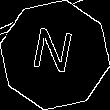N_S: (31, 27, 79, 83)
